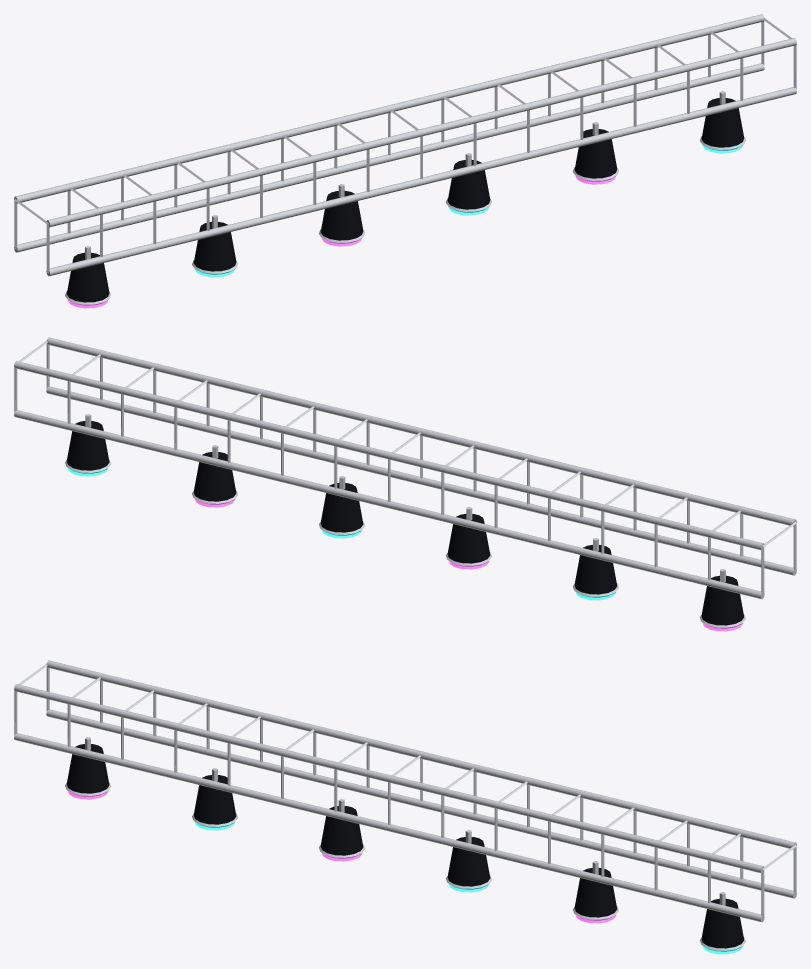
The model's file is truss_lights_rig.glb.
3 renders of one model, top to bottom at view 1: azimuth 30°, elevation 25°; view 2: azimuth 150°, elevation 25°; view 3: azimuth 330°, elevation 25°, orthographic.
Visible parts, largest first — view 1: truss_lights_rig; view 2: truss_lights_rig; view 3: truss_lights_rig.
Part boxes in pixels (bbox=[...]): truss_lights_rig: bbox=[14, 14, 796, 308]; truss_lights_rig: bbox=[14, 337, 796, 631]; truss_lights_rig: bbox=[14, 660, 796, 954].
Size of the model in its own units: 4.02 by 0.538 by 0.336.
